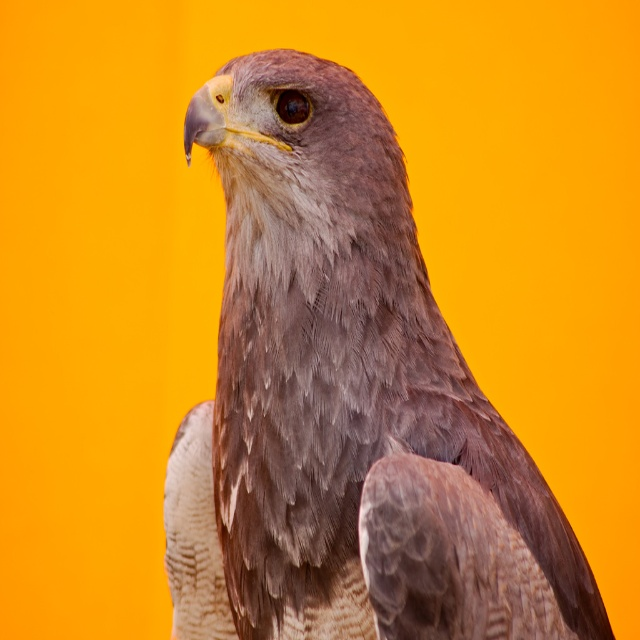Eagle: (164, 28, 621, 640)
